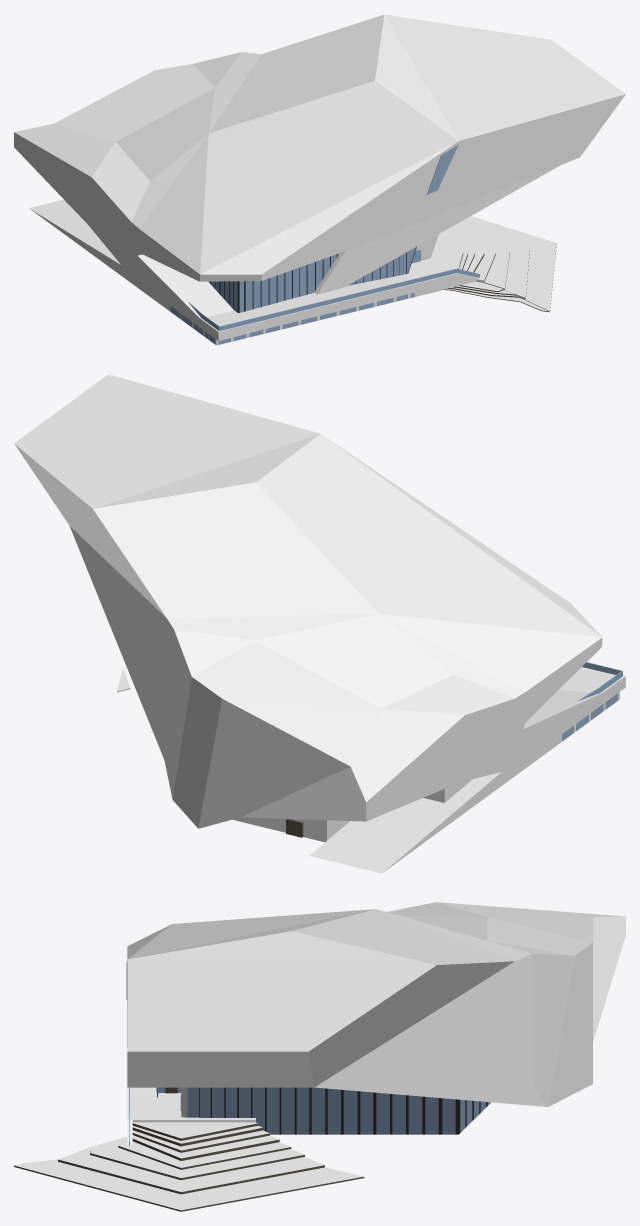
File: FilmmuseumTEXTURED.fbx
3 views of the same model, one above another, from view 1: azimuth 30°, elevation 25°; view 2: azimuth 150°, elevation 25°; view 3: azimuth 270°, elevation 25° (orthographic). The views are drawn at different scales.
Parts seen in each view (by area): view 1: Plane, Plane.006, Plane.005, Plane.002, Plane.003, Plane.007, Plane.001, Plane.009; view 2: Plane, Plane.005, Plane.008; view 3: Plane, Plane.006, Plane.004, Plane.007.
Part boxes in pixels (bbox=[...]): Plane: bbox=[14, 14, 625, 340]; Plane.006: bbox=[432, 216, 556, 312]; Plane.005: bbox=[29, 199, 441, 345]; Plane.002: bbox=[208, 253, 339, 312]; Plane.003: bbox=[188, 268, 479, 330]; Plane.007: bbox=[441, 281, 548, 311]; Plane.001: bbox=[347, 246, 416, 285]; Plane.009: bbox=[427, 144, 458, 194]; Plane: bbox=[14, 374, 625, 828]; Plane.005: bbox=[309, 692, 619, 873]; Plane.008: bbox=[233, 817, 349, 842]; Plane: bbox=[127, 902, 625, 1144]; Plane.006: bbox=[14, 1122, 364, 1211]; Plane.004: bbox=[158, 1087, 490, 1134]; Plane.007: bbox=[19, 1136, 127, 1164].
Size of the model in its own units: 862 by 342 by 919.
